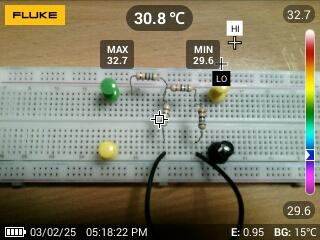resistor: (160, 102, 171, 129), (197, 104, 207, 133), (133, 72, 161, 82), (168, 83, 196, 93)
